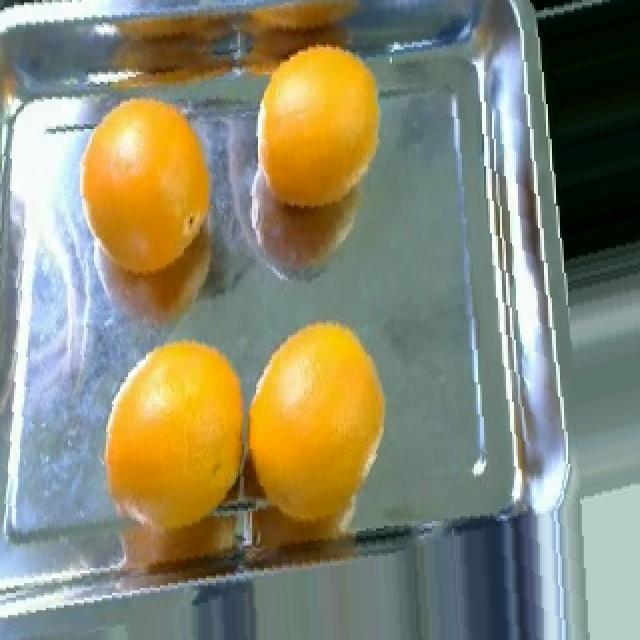Fruit: (68, 77, 224, 285), (90, 322, 248, 524), (248, 307, 392, 464)
